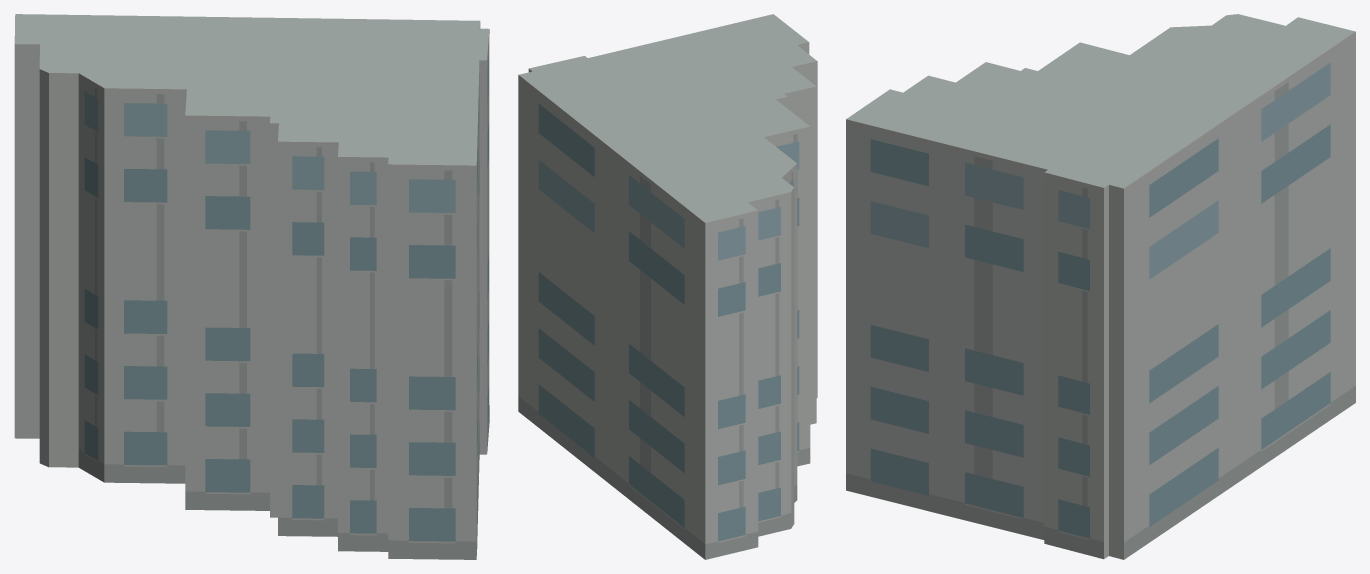
Rendered from survey-upis-32519717.glb.
3 views of the same model, side by side, from view 1: azimuth 30°, elevation 25°; view 2: azimuth 150°, elevation 25°; view 3: azimuth 270°, elevation 25° (orthographic). The views are drawn at different scales.
Parts seen in each view (by area): view 1: survey-upis-32519717.tmp; view 2: survey-upis-32519717.tmp; view 3: survey-upis-32519717.tmp.
Boxes of the visible parts, x1,y1,x2,y2 form: survey-upis-32519717.tmp: (14, 14, 489, 559); survey-upis-32519717.tmp: (518, 14, 817, 559); survey-upis-32519717.tmp: (846, 14, 1355, 559).
Size of the model in its own units: 18.86 by 18.7 by 23.28.
